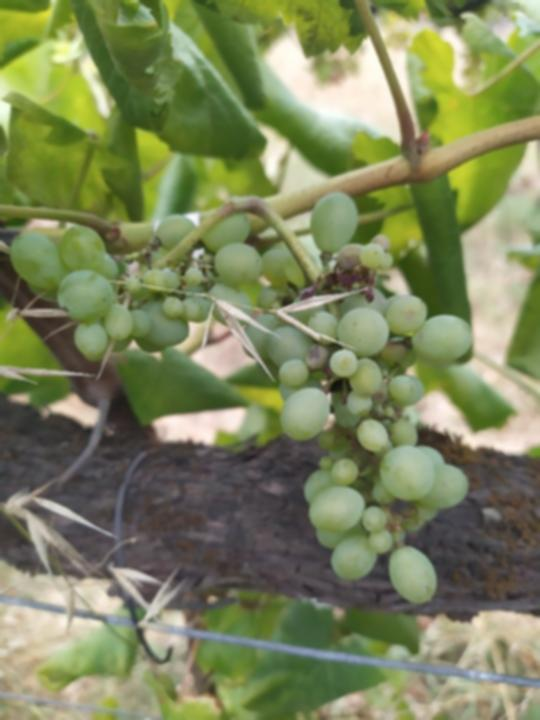grape: (10, 193, 473, 611)
